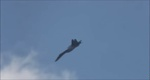maybay_muctieu: (54, 38, 81, 65)
